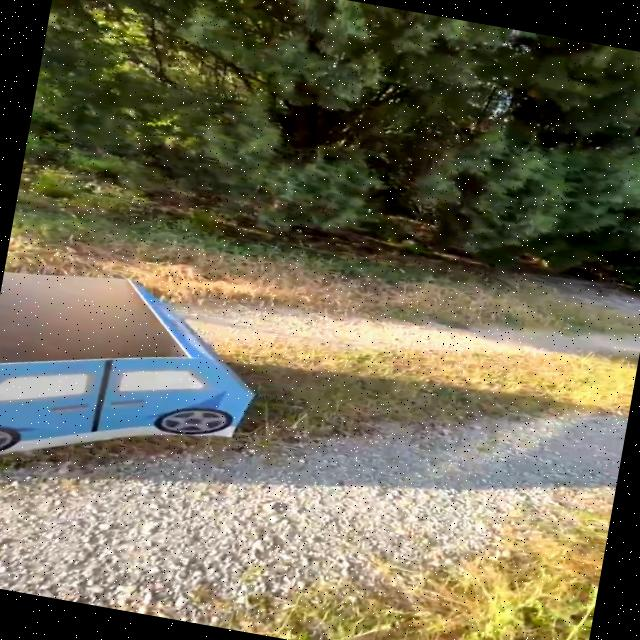blue_car: (0, 236, 297, 533)
